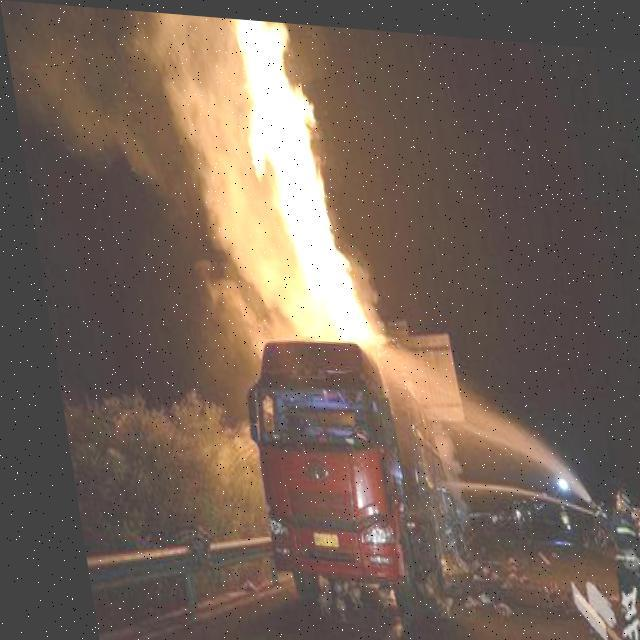Fire: (228, 14, 372, 342)
